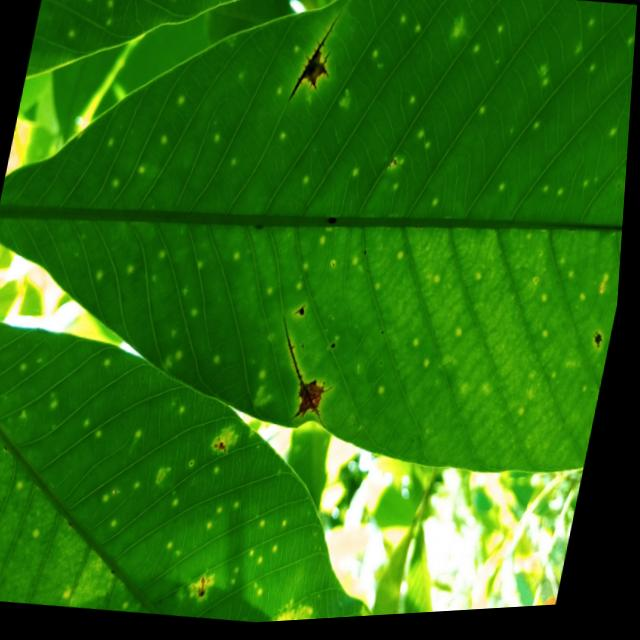Corynespora: (267, 316, 354, 433), (290, 11, 343, 109), (597, 336, 611, 356), (297, 307, 312, 321)
